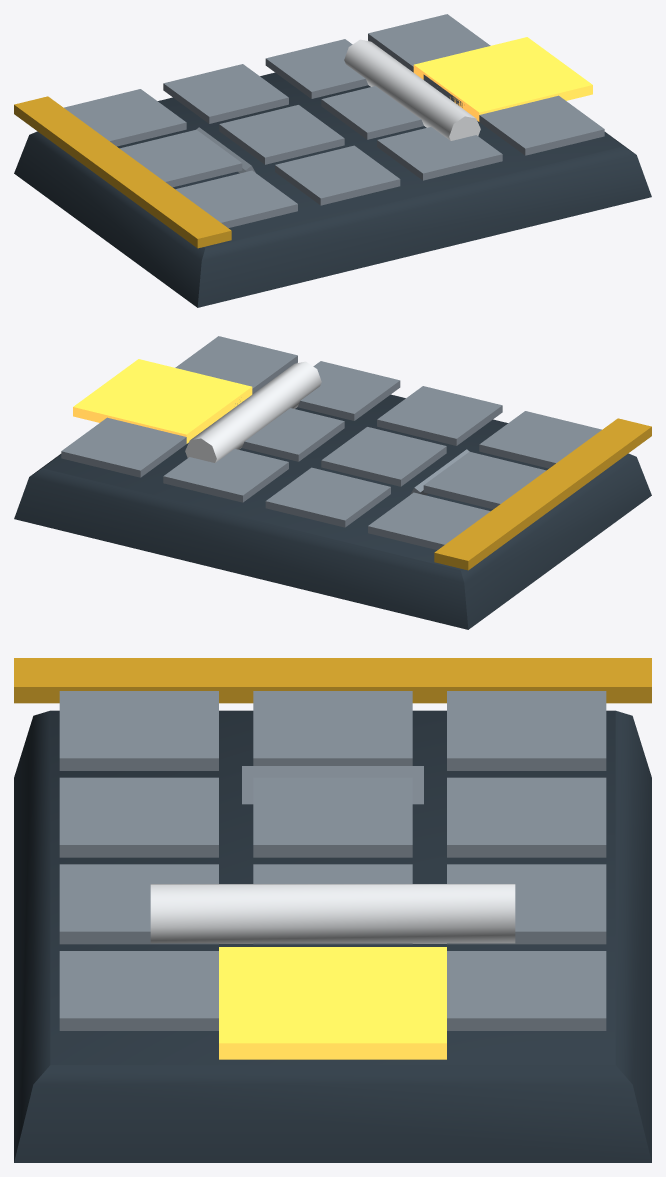
Rendered from debris_vls.glb.
3 renders of one model, top to bottom at view 1: azimuth 30°, elevation 25°; view 2: azimuth 150°, elevation 25°; view 3: azimuth 270°, elevation 25°, orthographic. The views are drawn at different scales.
Parts seen in each view (by area): view 1: panel, hatches, hazard, hot, missile_stub; view 2: panel, hatches, hot, hazard, missile_stub; view 3: panel, hatches, hot, hazard, missile_stub, lid.
Boxes of the visible parts, bbox=[...] form: panel: bbox=[14, 72, 651, 307]; hatches: bbox=[64, 14, 604, 227]; hazard: bbox=[14, 96, 231, 248]; hot: bbox=[413, 37, 592, 121]; missile_stub: bbox=[344, 39, 480, 140]; panel: bbox=[14, 394, 651, 629]; hatches: bbox=[61, 336, 601, 549]; hot: bbox=[73, 359, 252, 443]; hazard: bbox=[434, 418, 651, 570]; missile_stub: bbox=[185, 361, 321, 462]; panel: bbox=[14, 710, 651, 1162]; hatches: bbox=[59, 691, 606, 1030]; hot: bbox=[219, 947, 446, 1059]; hazard: bbox=[14, 658, 651, 703]; missile_stub: bbox=[150, 884, 515, 943]; lid: bbox=[242, 766, 423, 804].
Bounding box in the file's own units: 4 × 1.01 × 2.8.
